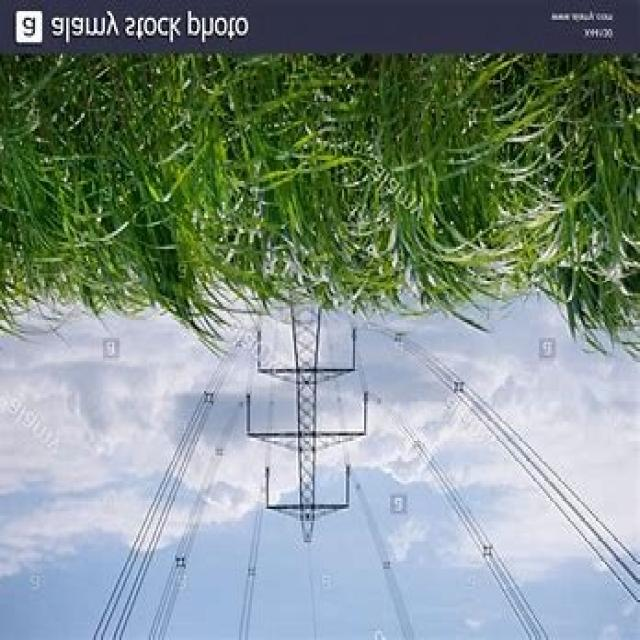utility poles: (235, 54, 368, 551)
